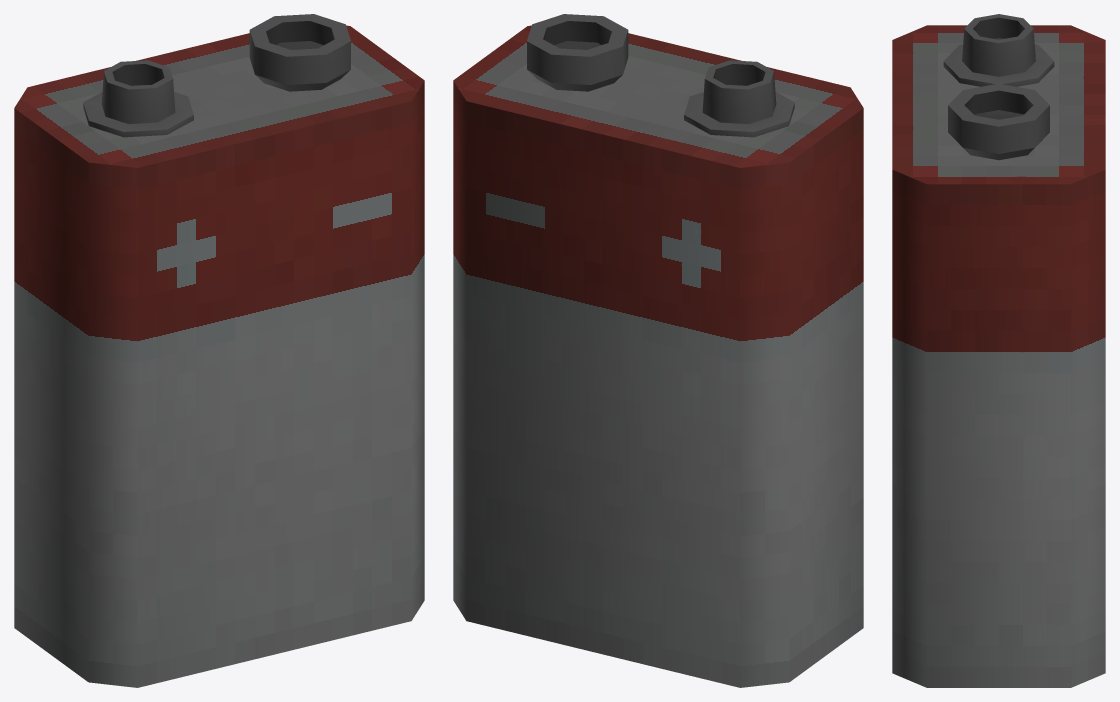
File: battery_mp_3_1.glb
The picture shows the model from 3 angles, left to right: view 1: azimuth 30°, elevation 25°; view 2: azimuth 150°, elevation 25°; view 3: azimuth 270°, elevation 25°; orthographic projection. The views are drawn at different scales.
Visible parts, largest first — view 1: battery_mp_3_1; view 2: battery_mp_3_1; view 3: battery_mp_3_1.
Boxes of the visible parts, left/top/right/bottom form: battery_mp_3_1: left=14, top=14, right=424, bottom=687; battery_mp_3_1: left=453, top=14, right=863, bottom=687; battery_mp_3_1: left=892, top=14, right=1105, bottom=687.
Bounding box in the file's own units: 0.0648 × 0.103 × 0.0368.
1 material, 1 textured.
